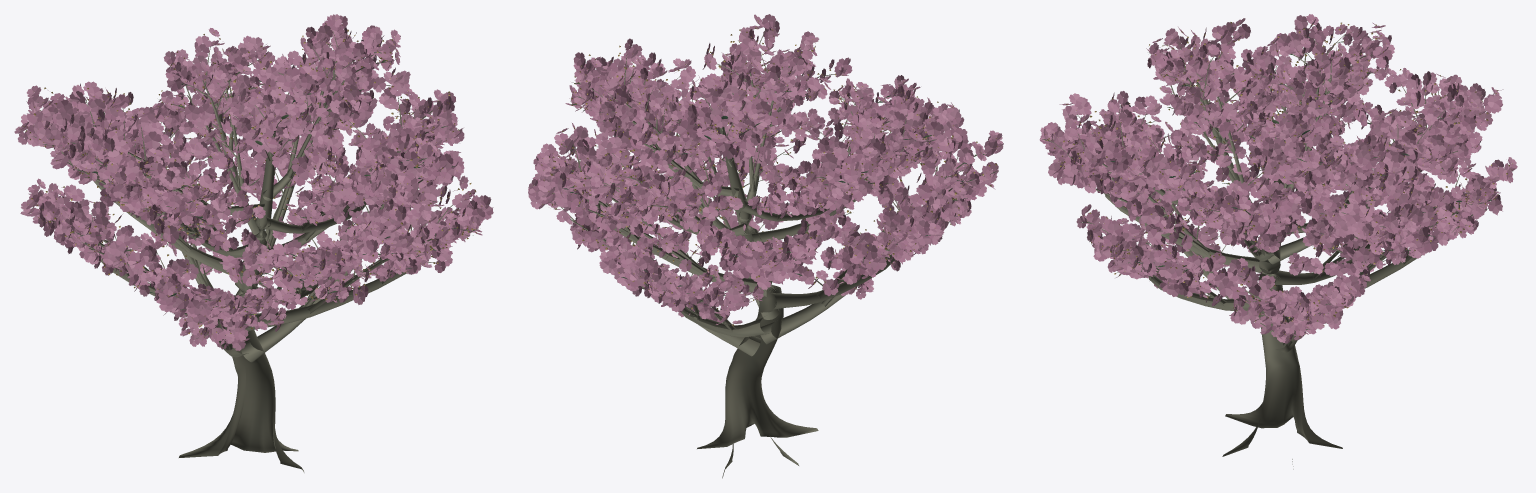
3 views of the same model, side by side, from view 1: azimuth 30°, elevation 25°; view 2: azimuth 150°, elevation 25°; view 3: azimuth 270°, elevation 25° (orthographic). The views are drawn at different scales.
Parts seen in each view (by area): view 1: leaves, branches; view 2: leaves, branches; view 3: leaves, branches.
Boxes of the visible parts, <box> form: leaves: <box>14,14,493,350</box>; branches: <box>26,31,469,472</box>; leaves: <box>528,14,1003,326</box>; branches: <box>550,30,991,478</box>; leaves: <box>1039,14,1517,343</box>; branches: <box>1050,29,1488,469</box>.
Size of the model in its own units: 9.18 by 7.95 by 9.02.
